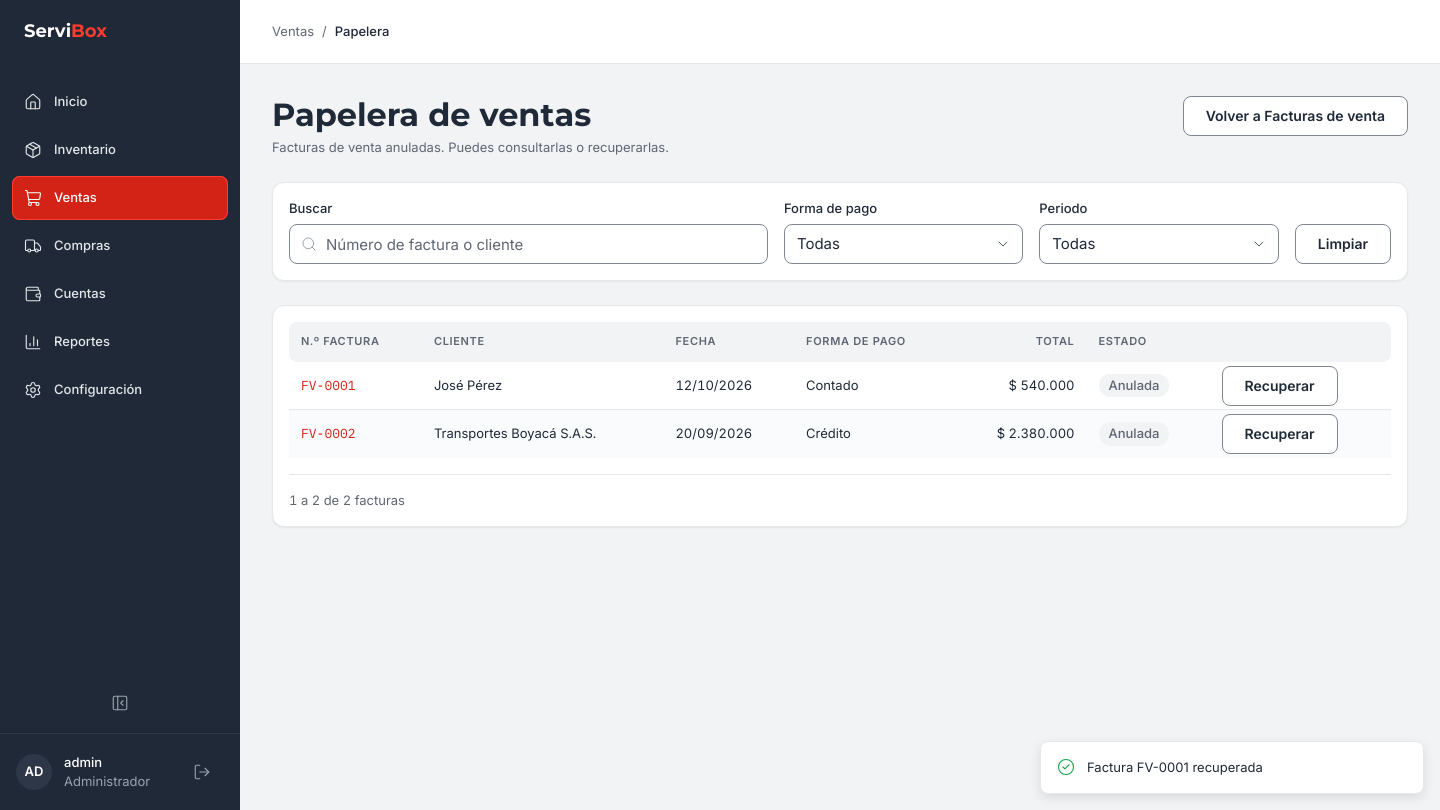
Scenario: papelera de ventas › si el backend rechaza por stock, el mensaje queda en el modal y los datos se refrescan
This screenshot has width=1440, height=810.
Click the button with aria-label "Recuperar factura FV-0001".
click(1280, 386)  # box [1222, 366, 1338, 406]
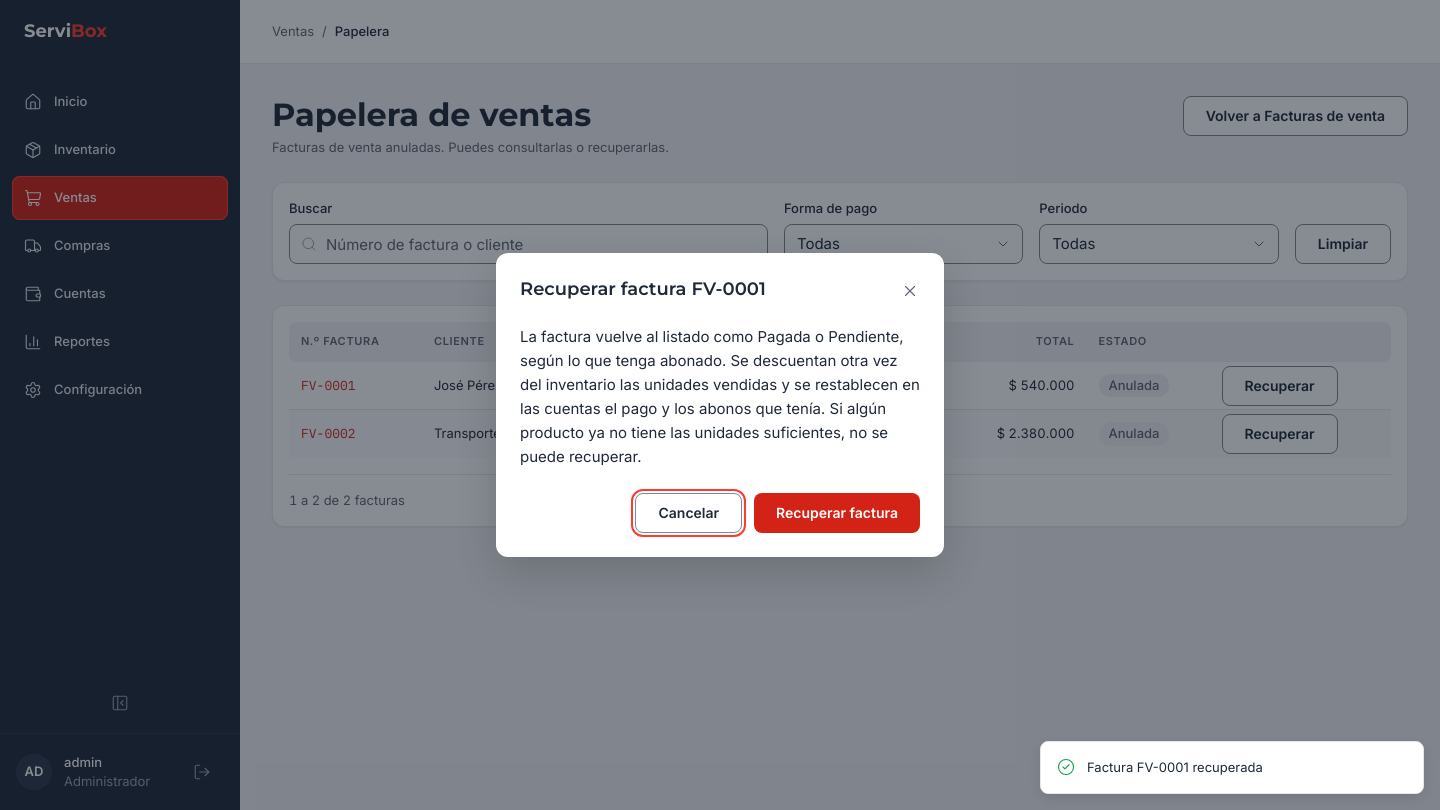
Click the button "Recuperar factura".
click(837, 513)  # box [754, 493, 920, 533]
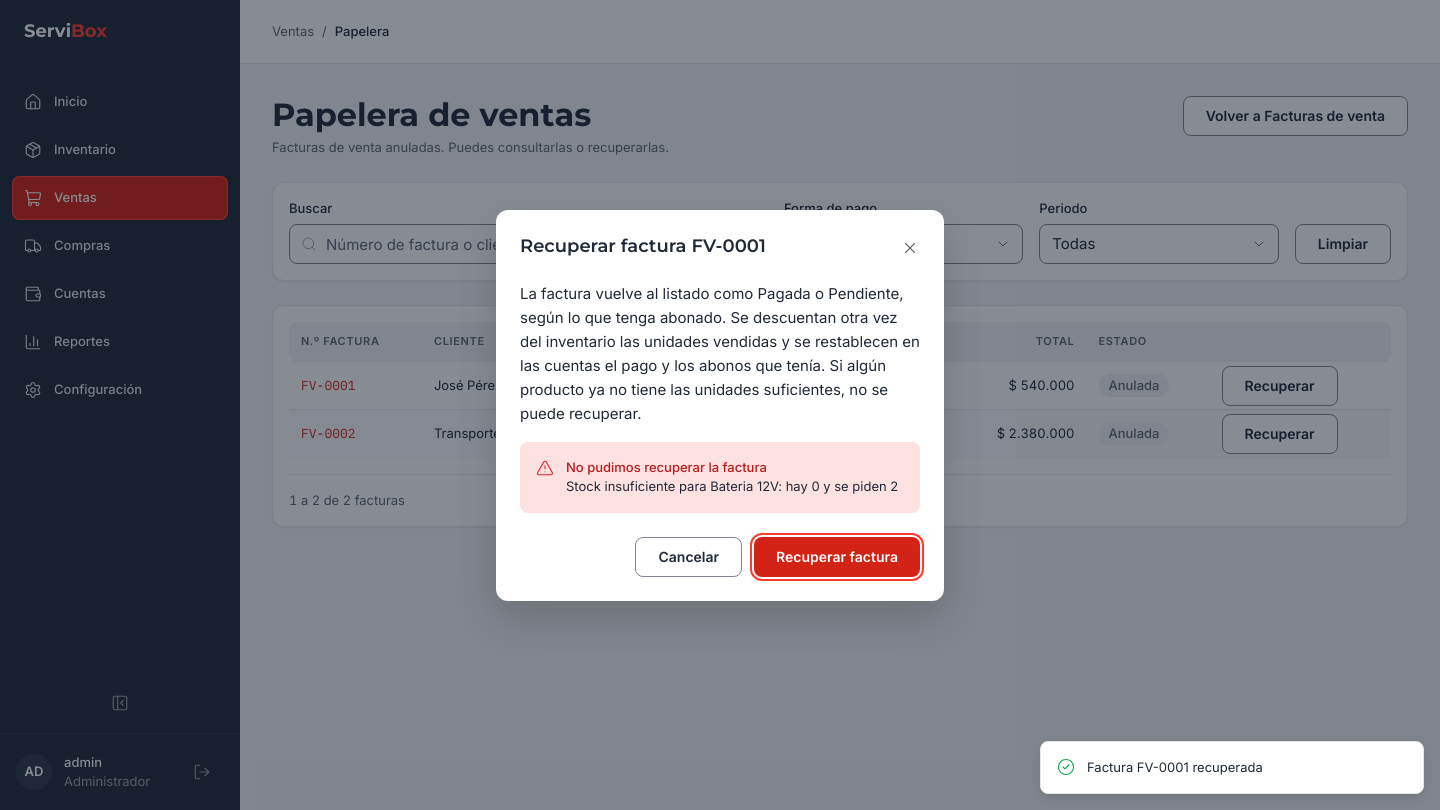
expect the dialog is shown: met, box [496, 210, 944, 600]
expect the text "Stock insuficiente para Bateria 12V: hay 0 y se piden 2" is shown: met, box [566, 477, 898, 496]
expect the text "No pudimos recuperar la factura" is shown: met, box [566, 458, 767, 474]
